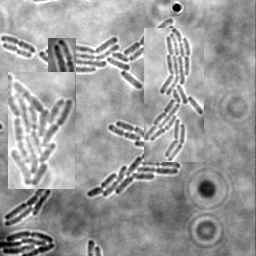Dividing: (1, 34, 37, 52), (3, 41, 33, 57)
Microcolony: (40, 18, 199, 89), (144, 28, 204, 162), (8, 72, 75, 189), (87, 120, 181, 197), (48, 38, 76, 122), (5, 184, 52, 226), (1, 230, 56, 255)
